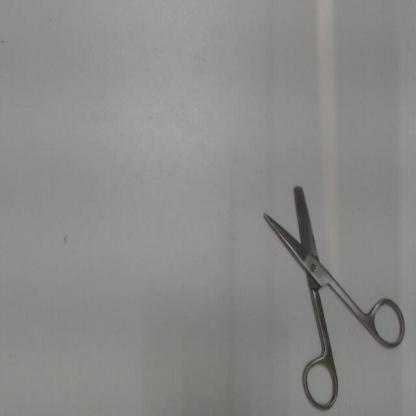Dressing Scissors: (254, 165, 410, 415)
